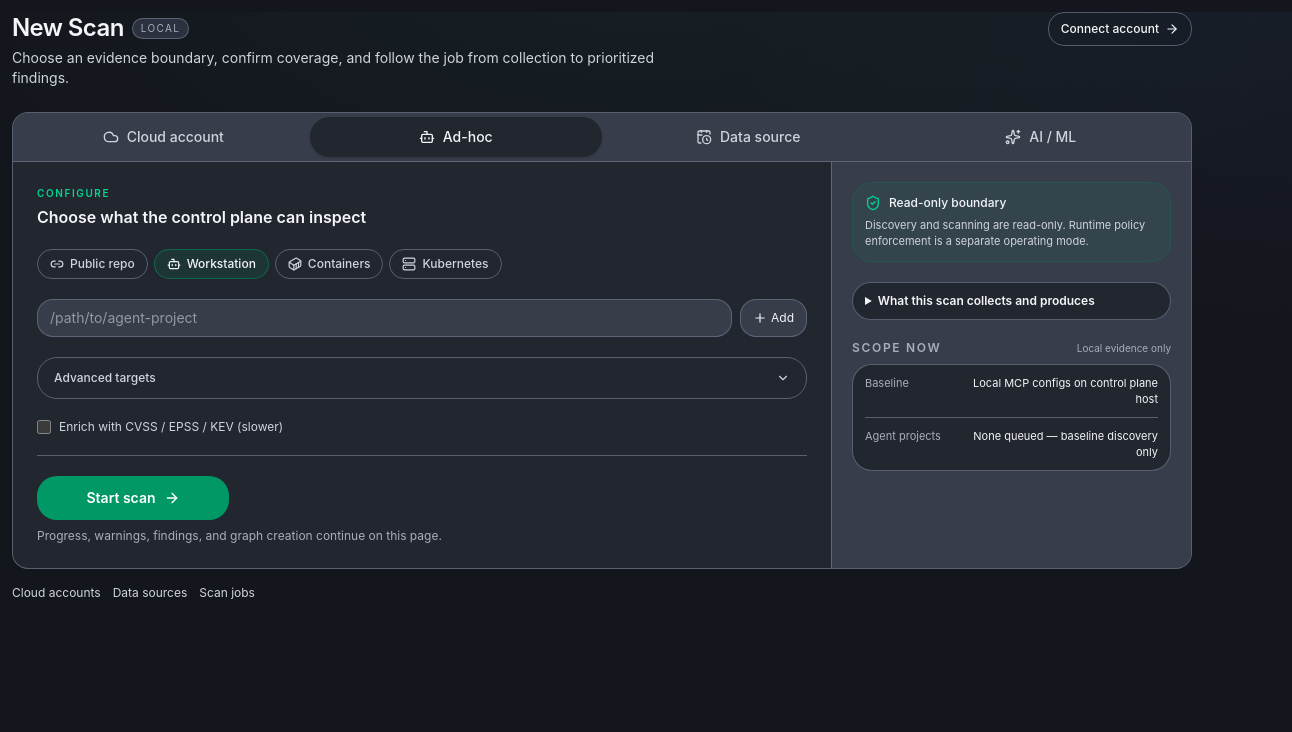
Scenario: ScanForm › blocks submit and flags an invalid public repository URL
Click the tab "Ad-hoc" at (456, 137), box [310,117,602,157]
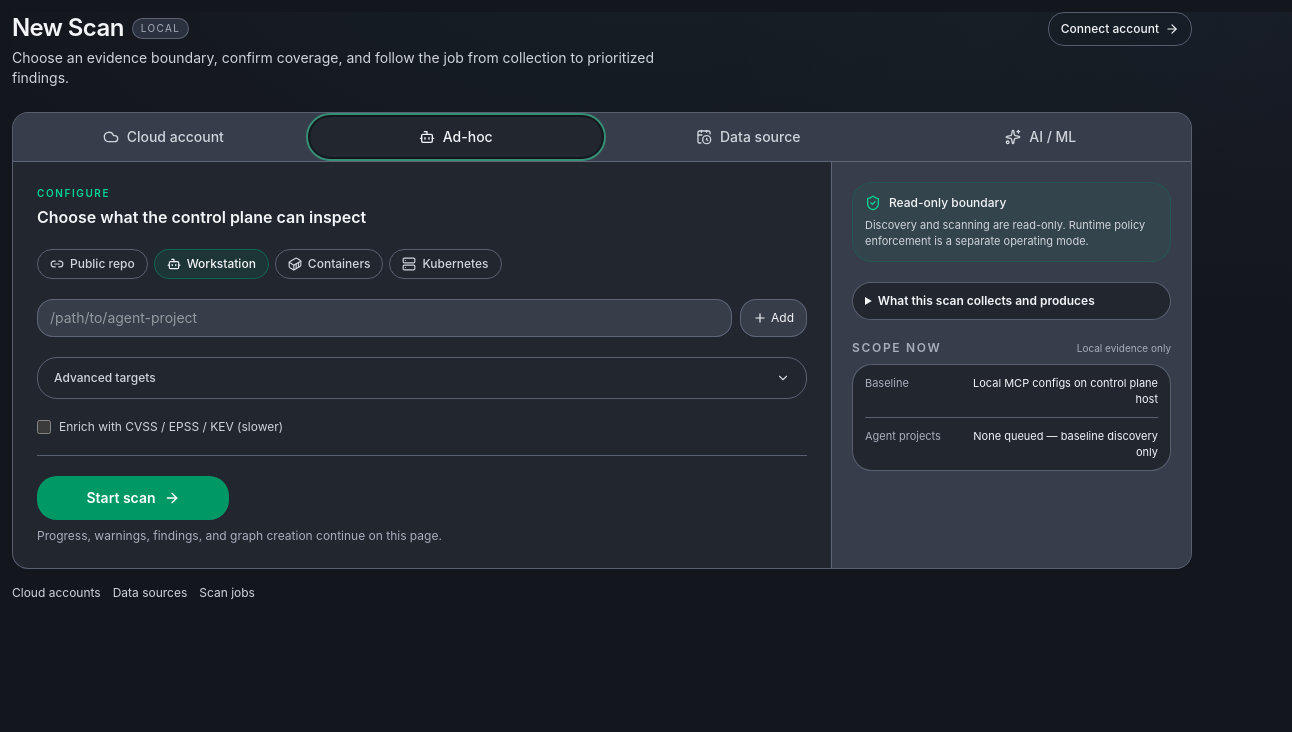
Click the tab "Public repo" at (92, 264), box [37,249,148,279]
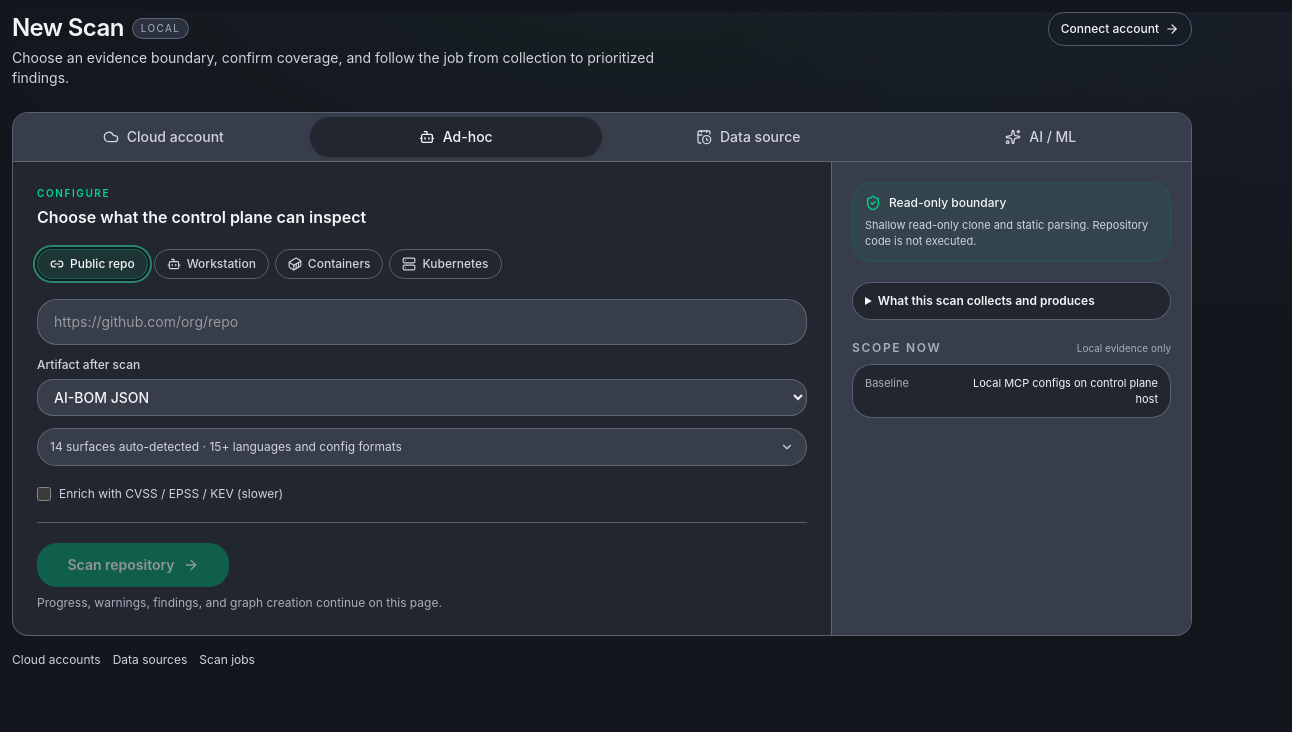
Type "github.com/org/repo" into the field with placeholder "https://github.com/org/repo" at (422, 322), box [37,299,807,345]
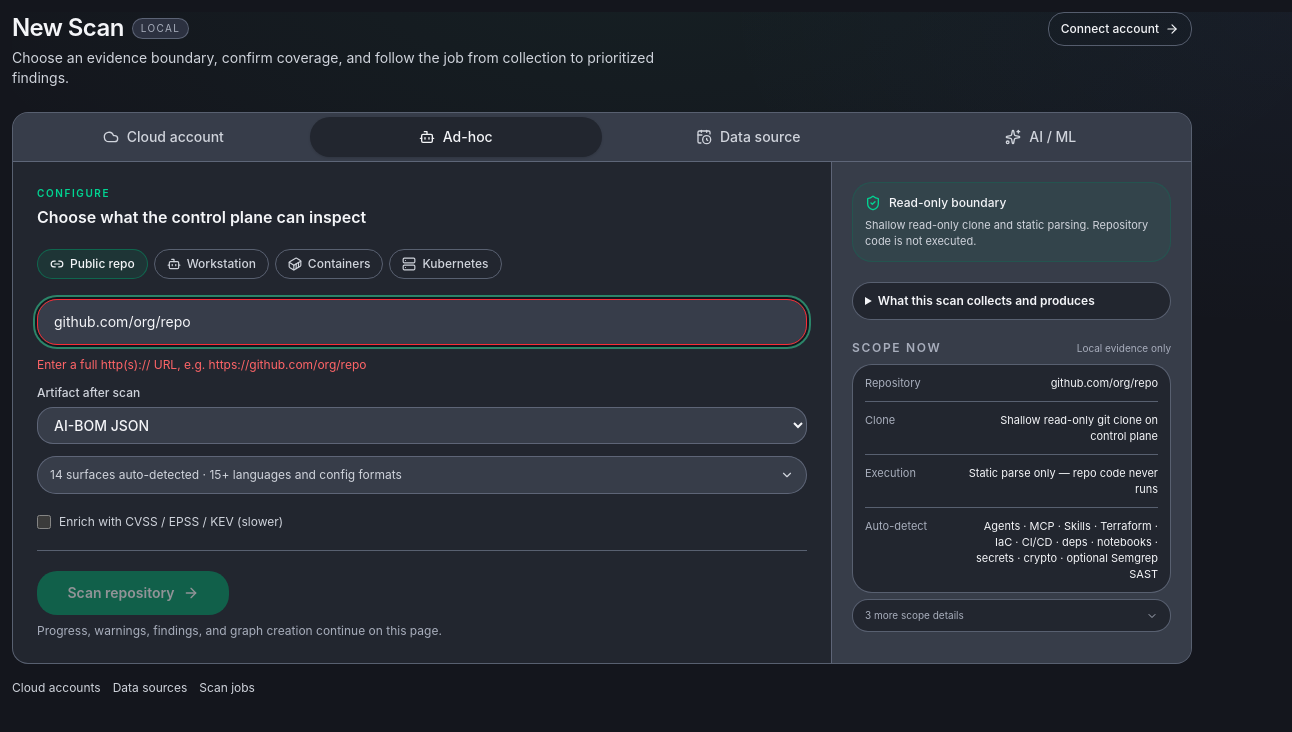
Result: the button "Scan repository" is disabled at [37,571,229,615]
Result: the text "Enter a full http(s):// URL" is shown at [37,357,366,372]
